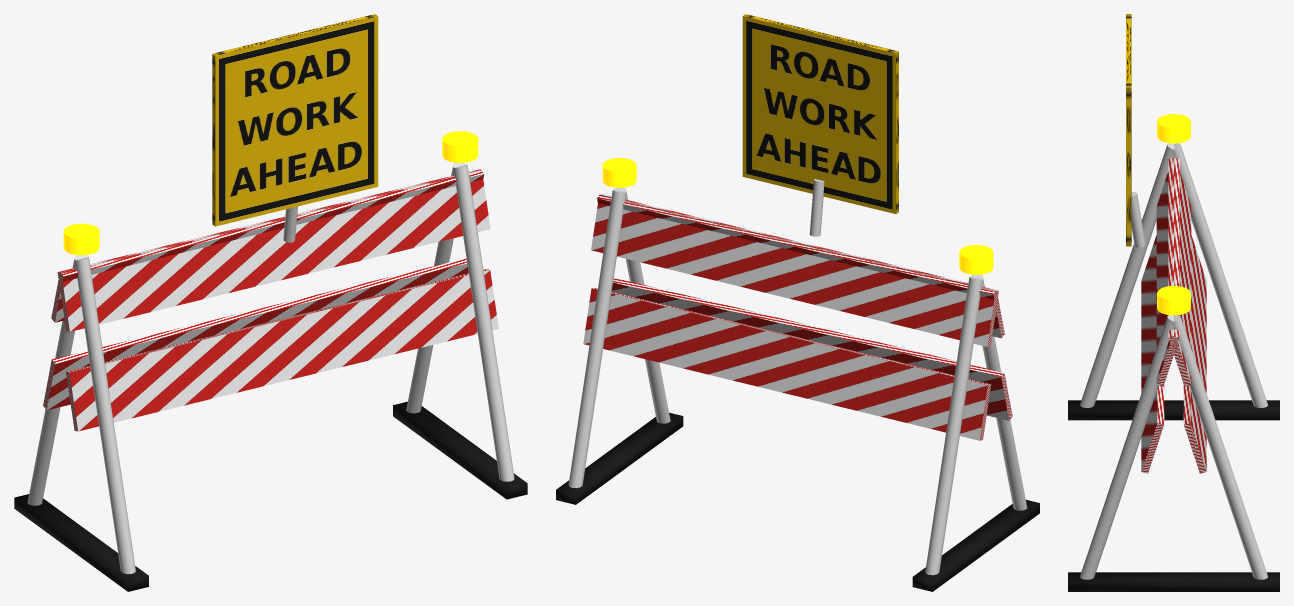
Rendered from barricade.glb.
The picture shows the model from 3 angles, left to right: view 1: azimuth 30°, elevation 25°; view 2: azimuth 150°, elevation 25°; view 3: azimuth 270°, elevation 25°; orthographic projection. The views are drawn at different scales.
Parts seen in each view (by area): view 1: barricade_BarricadeBoard, barricade_RoadWorkSign, barricade_BarricadeLeg, barricade_PropRubber, barricade_Blinker; view 2: barricade_BarricadeBoard, barricade_RoadWorkSign, barricade_BarricadeLeg, barricade_PropRubber, barricade_Blinker; view 3: barricade_BarricadeLeg, barricade_BarricadeBoard, barricade_PropRubber, barricade_Blinker, barricade_RoadWorkSign.
Part boxes in pixels (x1,y1,x2,y2): barricade_BarricadeBoard: [43, 169, 498, 431]; barricade_RoadWorkSign: [212, 14, 378, 226]; barricade_BarricadeLeg: [27, 162, 514, 574]; barricade_PropRubber: [14, 401, 527, 591]; barricade_Blinker: [63, 131, 478, 255]; barricade_BarricadeBoard: [583, 193, 1012, 440]; barricade_RoadWorkSign: [742, 14, 898, 213]; barricade_BarricadeLeg: [568, 179, 1027, 575]; barricade_PropRubber: [556, 412, 1039, 591]; barricade_Blinker: [602, 158, 993, 274]; barricade_BarricadeLeg: [1080, 143, 1267, 579]; barricade_BarricadeBoard: [1141, 157, 1206, 473]; barricade_PropRubber: [1068, 400, 1279, 591]; barricade_Blinker: [1157, 114, 1190, 315]; barricade_RoadWorkSign: [1126, 14, 1131, 246].
Bounding box in the file's own units: 1.6 × 1.77 × 0.75.
Materials: 5 (2 with a texture image).
